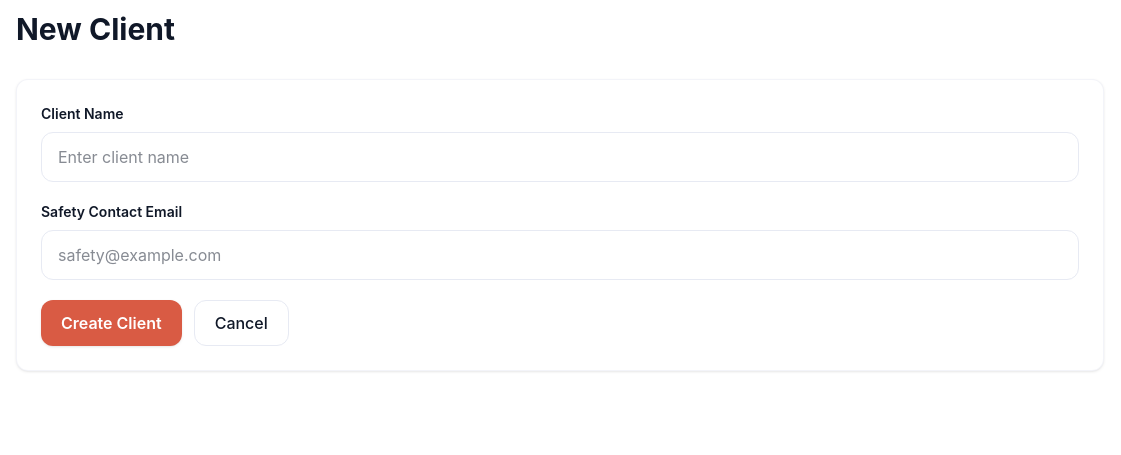
Bundle 4 — New Client › shows error on empty submit
Click the button "Create Client". click: (111,323)
box: [41,300,182,346]
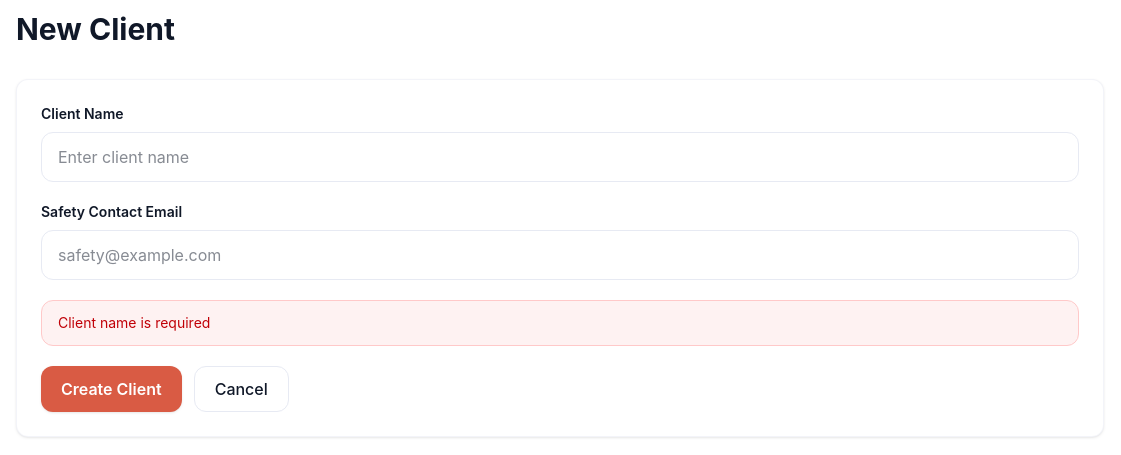
Expected: the text "Client name is required" is shown, [41,300,1079,346]
